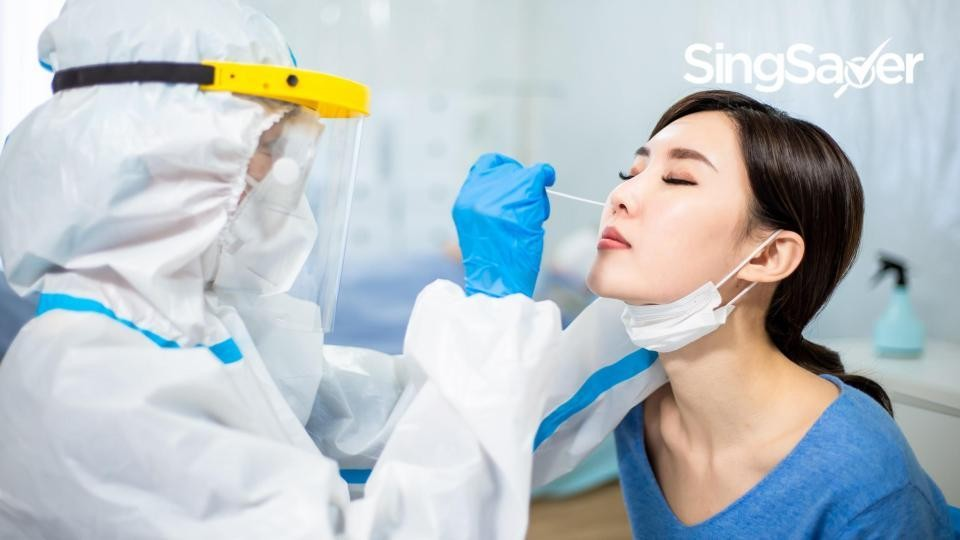Coverall: (1, 1, 386, 540)
Face_Shield: (175, 62, 372, 314)
Gloves: (447, 144, 560, 307)
mask_weared_incorrect: (577, 141, 724, 368)
with_mask: (204, 127, 323, 319)
